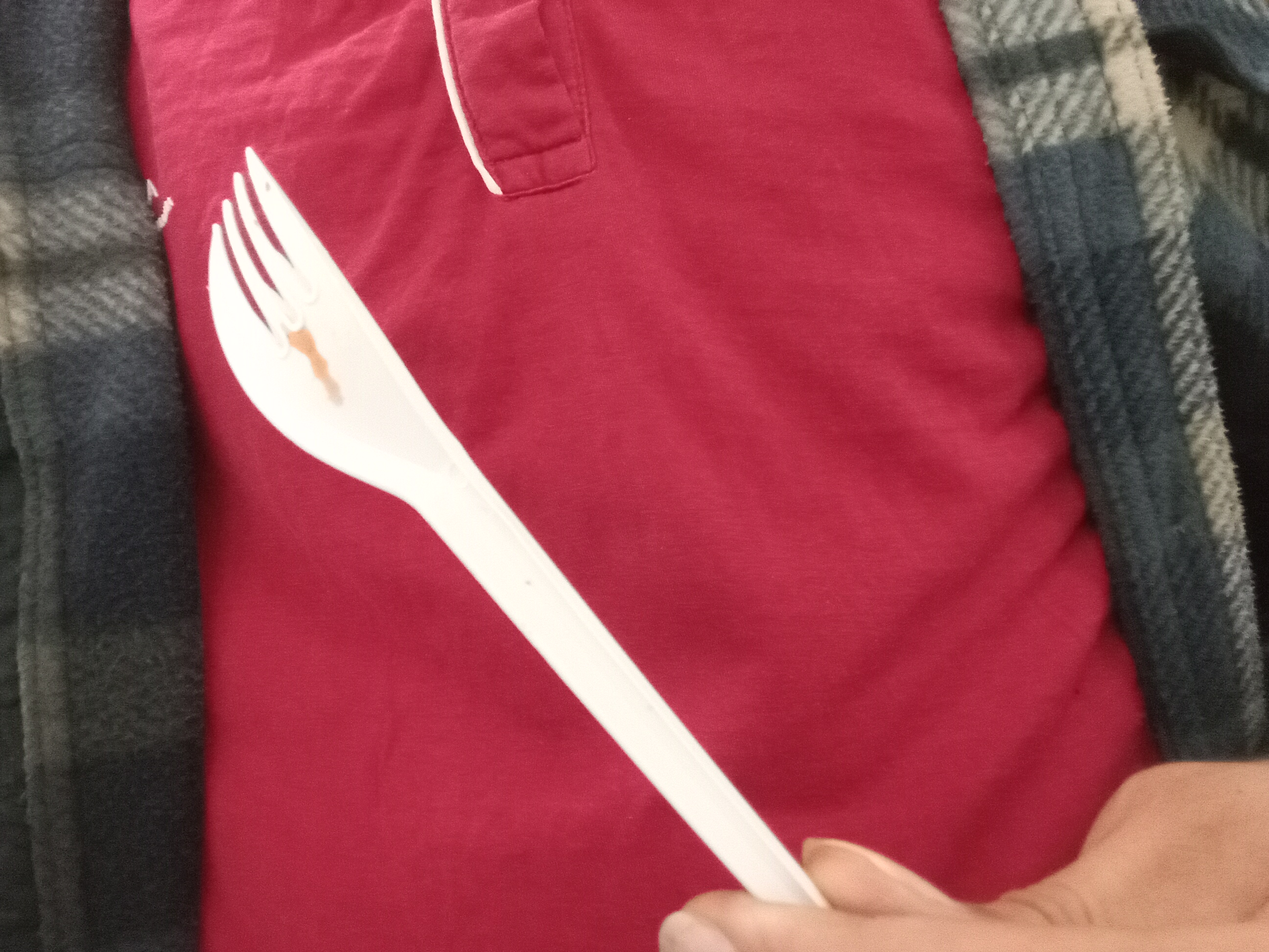Ordinario: (202, 147, 826, 908)
